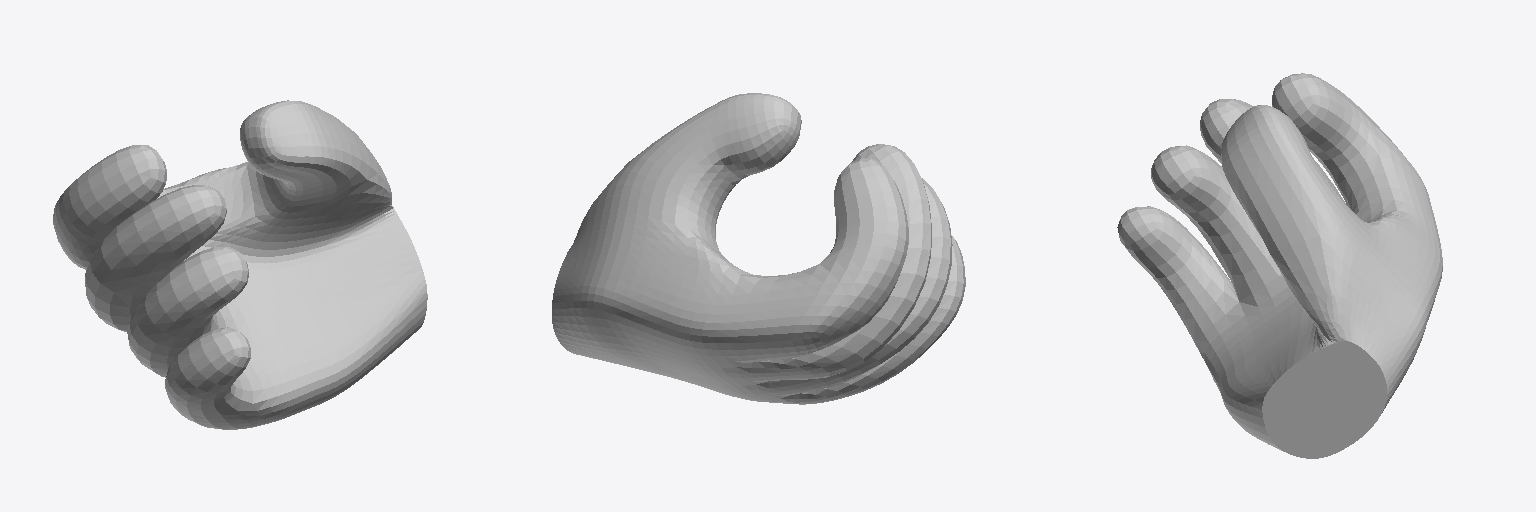
3 views of the same model, side by side, from view 1: azimuth 30°, elevation 25°; view 2: azimuth 150°, elevation 25°; view 3: azimuth 270°, elevation 25° (orthographic).
Parts seen in each view (by area): view 1: C_HAND; view 2: C_HAND; view 3: C_HAND.
Part boxes in pixels (x1,y1,x2,y2): C_HAND: (53,100,427,429); C_HAND: (552,93,965,404); C_HAND: (1117,73,1442,458).
Size of the model in its own units: 146 by 131 by 126.